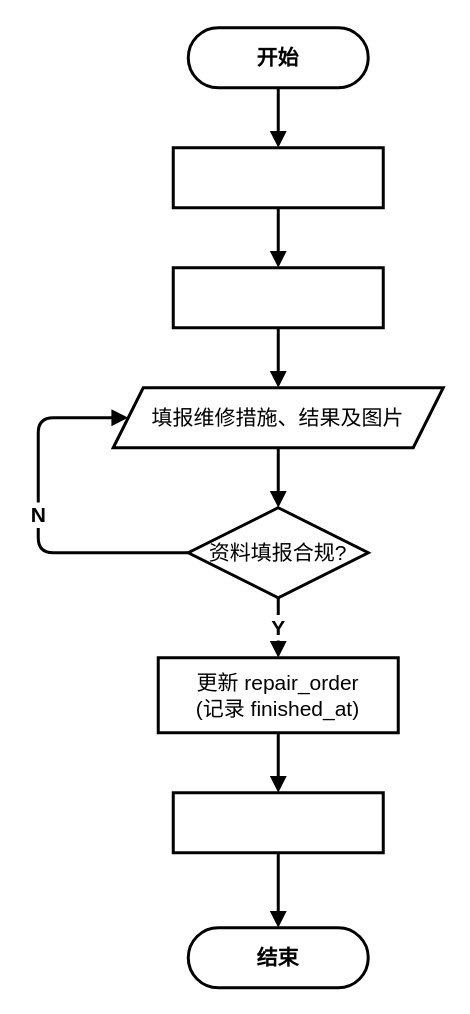
Image size: 470x1014. Some labels were removed from this diagram. Each missing label, with the centre of its shape:
"写入 operation_log" belongs at [277,822].
"执行维修作业" belongs at [277,297].
"查看待处理维修工单" belongs at [277,177].
